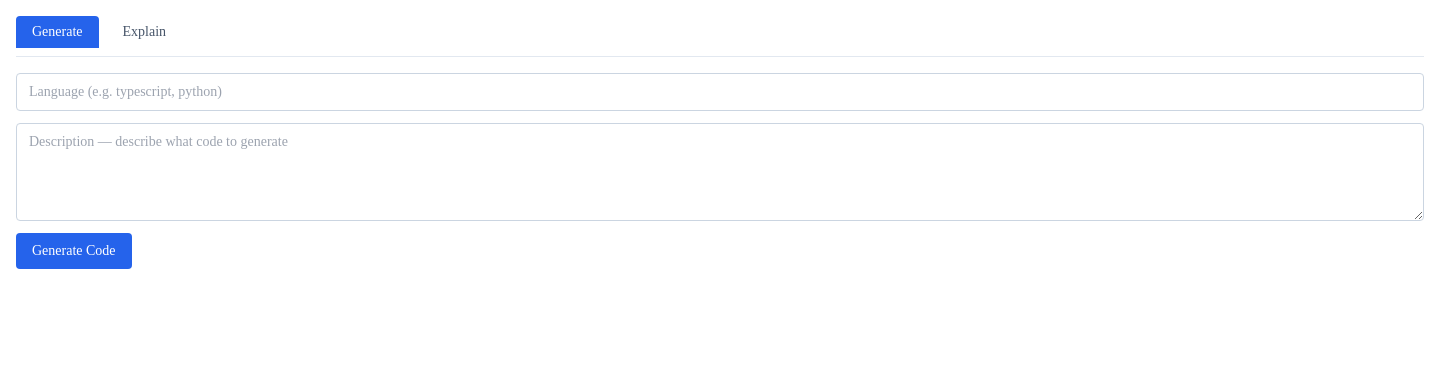
Scenario: CodeAssistant generate flow › displays the generated code after submission
Type "typescript" into the field with placeholder "Language (e.g. typescript, python)" at (720, 92), box top-left (16, 73), bottom-right (1424, 111)
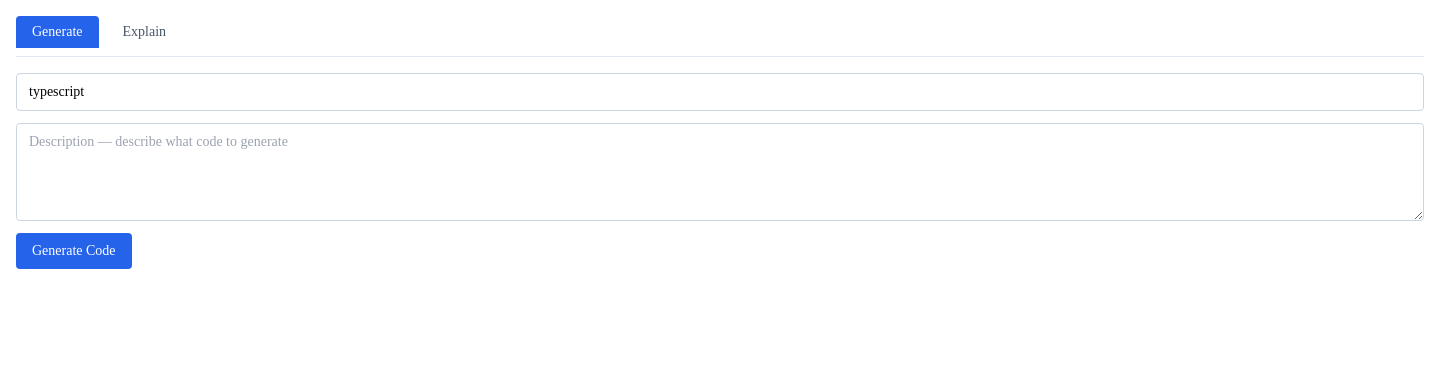
Type "a hello function" into the text box with placeholder "Description — describe what code to generate" at (720, 172), box top-left (16, 123), bottom-right (1424, 221)
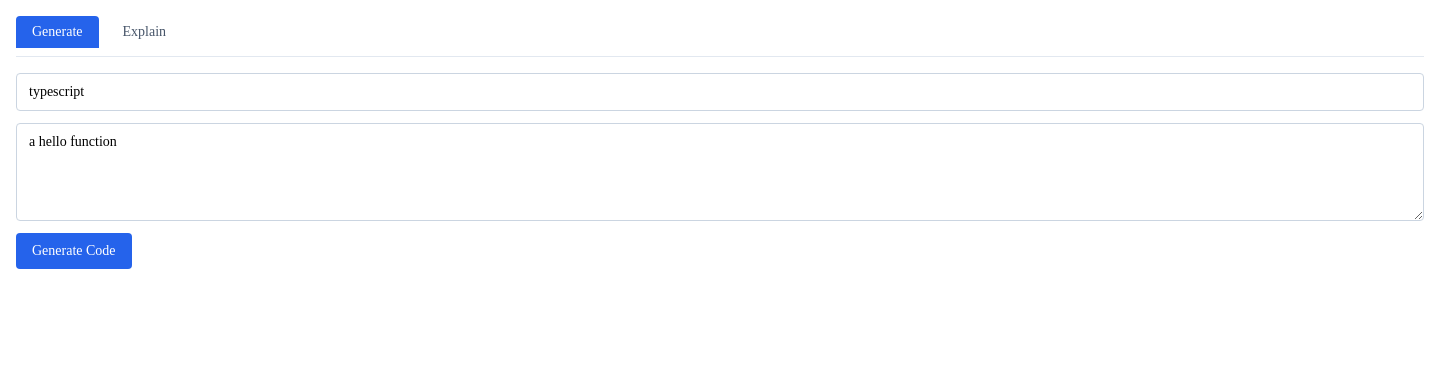
Click the button "Generate Code" at (74, 251), box top-left (16, 233), bottom-right (132, 269)
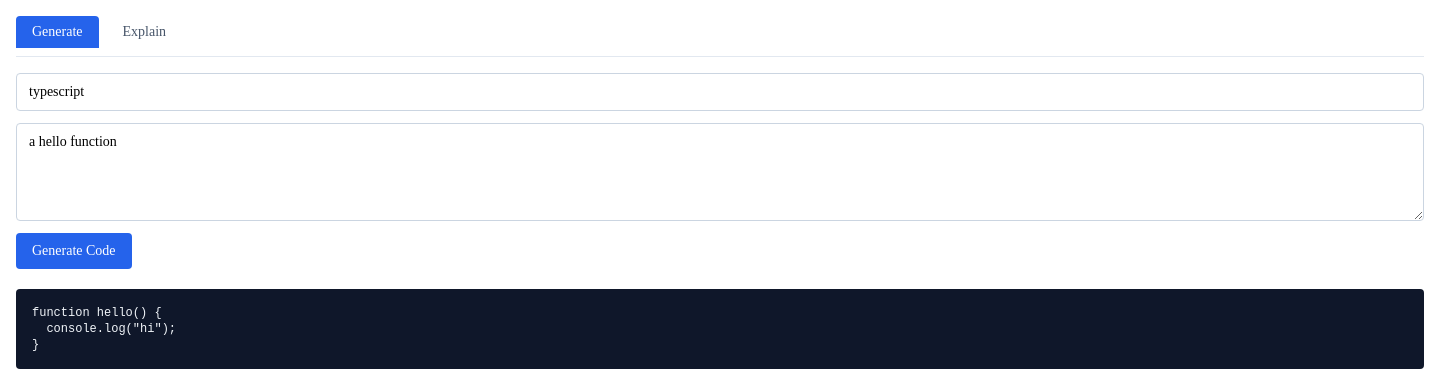
Expected: the text "function hello() { console.log(\"hi\"); }" is shown, top-left (16, 289), bottom-right (1424, 369)
